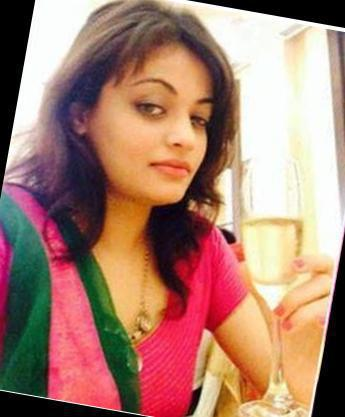Drunk: (109, 47, 212, 205)
